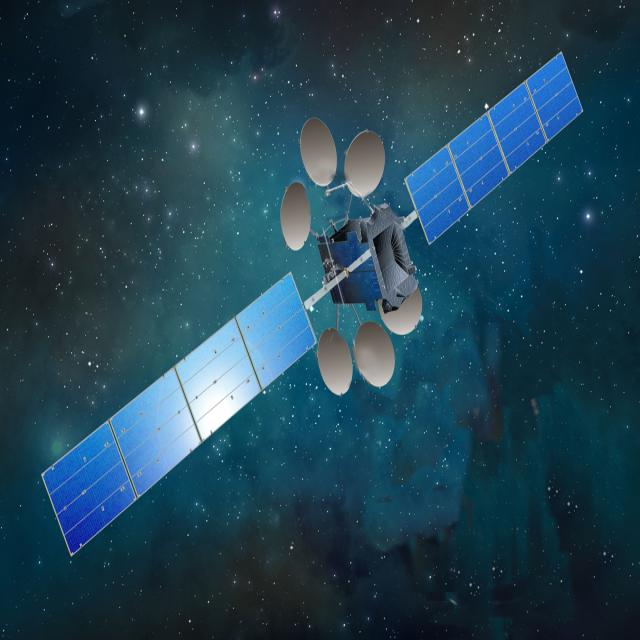satellite: (32, 41, 588, 566)
